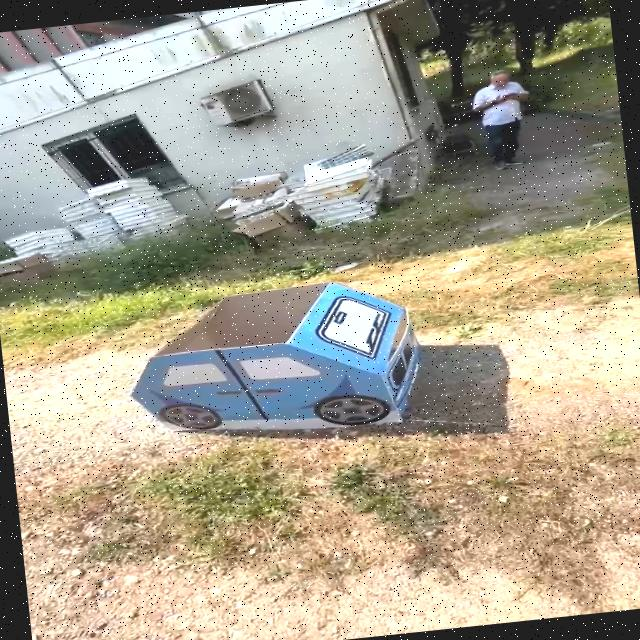blue_car: (122, 264, 477, 454)
